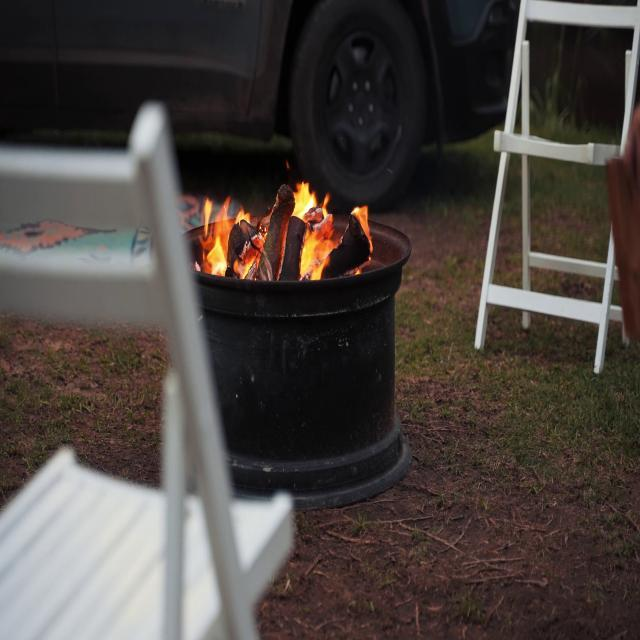Fire: (192, 169, 374, 280), (288, 166, 372, 282)
